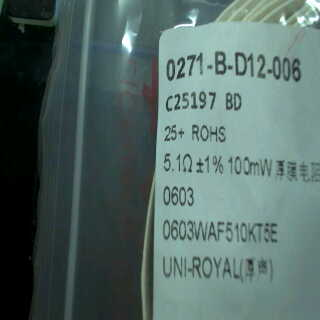5.1R: (161, 149, 196, 179)
